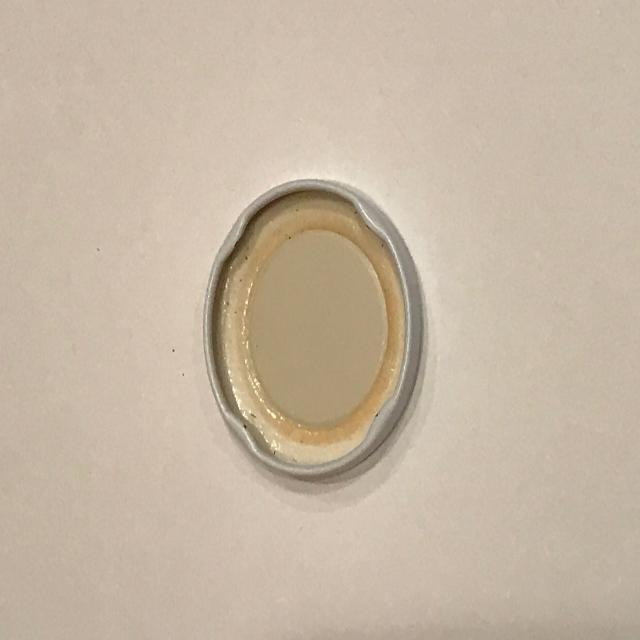metal: (202, 176, 426, 485)
